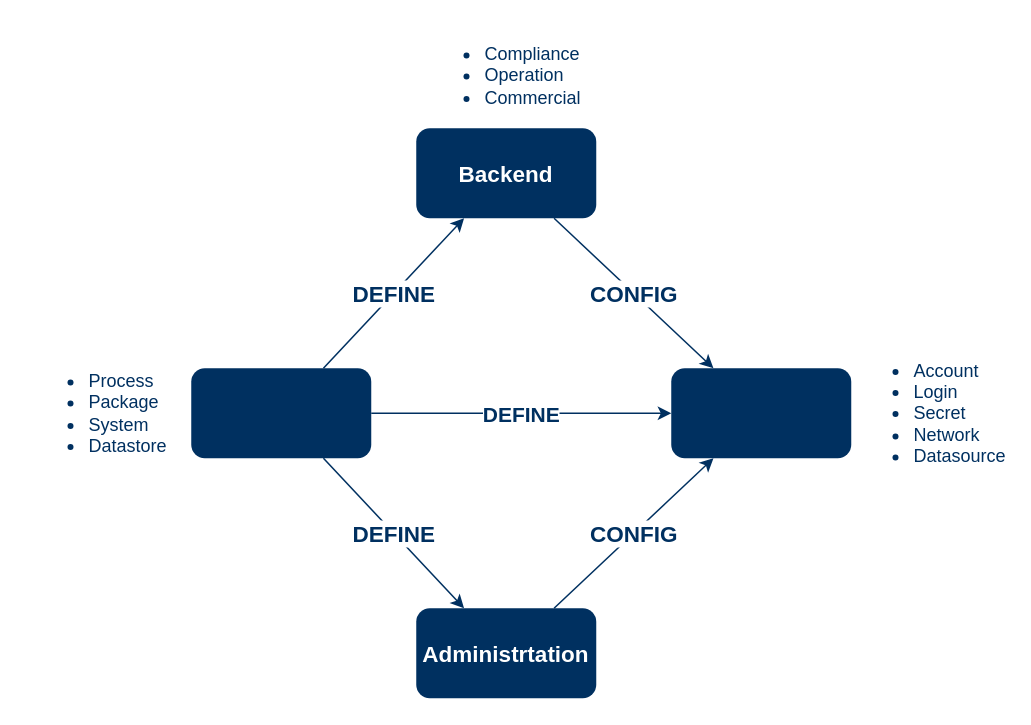
This 1031x725 diagram has some shape labels left out. The shapes that lost their labels are listed below. From the top down, each one's centre as x and y in pixels, then its label:
At point (280, 413): "System".
At point (760, 413): "Domain".
